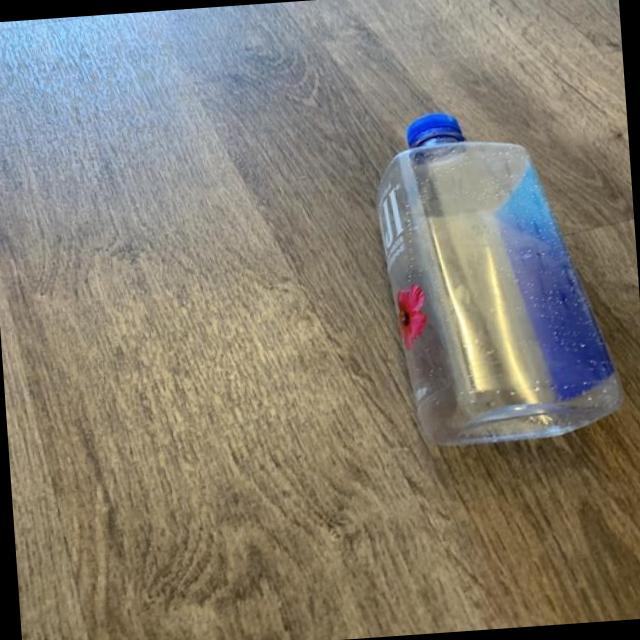plastic_bottle: (370, 102, 628, 450)
